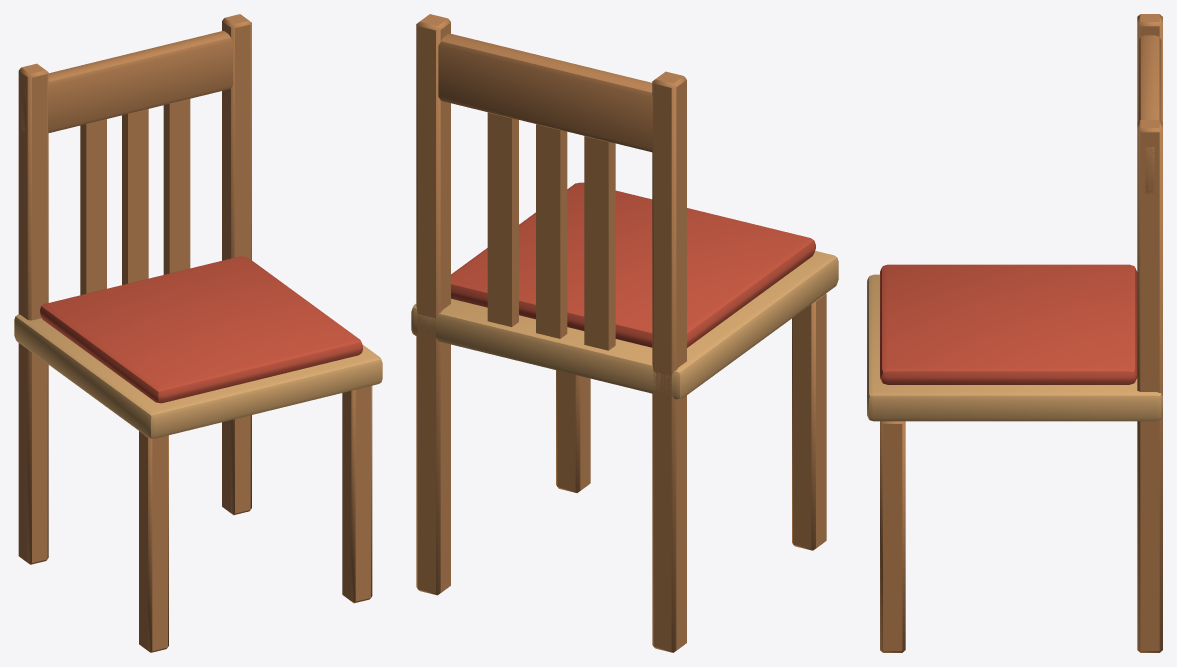
The model's file is chair.glb.
3 views of the same model, side by side, from view 1: azimuth 30°, elevation 25°; view 2: azimuth 150°, elevation 25°; view 3: azimuth 270°, elevation 25° (orthographic). The views are drawn at different scales.
Visible parts, largest first — view 1: body; view 2: body; view 3: body.
Part boxes in pixels (x1,y1,x2,y2): body: (14,14,382,652); body: (411,14,838,652); body: (867,14,1162,652).
Size of the model in its own units: 45 by 90 by 46.
